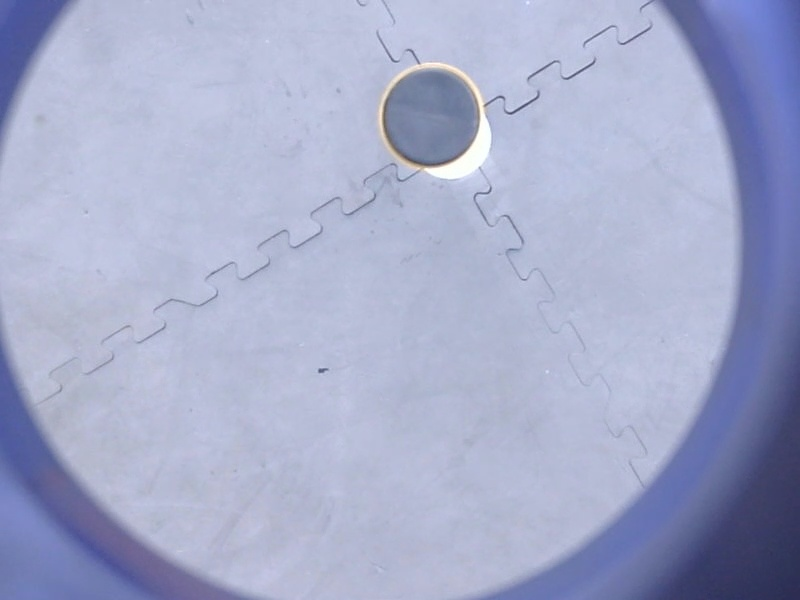tip: (375, 55, 492, 177)
